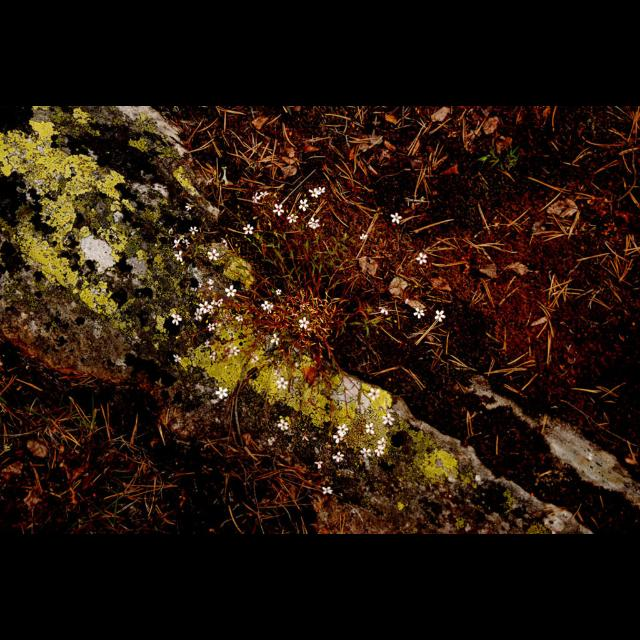Flower: (380, 412, 394, 426), (279, 418, 291, 432), (417, 252, 431, 264), (224, 345, 240, 355), (208, 249, 220, 261), (224, 284, 236, 296), (278, 377, 290, 389), (308, 219, 320, 231), (308, 188, 322, 198), (286, 213, 298, 224), (298, 316, 308, 329), (216, 388, 228, 398), (261, 300, 271, 312), (271, 334, 281, 346), (274, 205, 286, 215), (297, 199, 307, 211), (365, 423, 375, 435), (375, 444, 385, 456), (390, 212, 400, 224), (414, 308, 424, 320), (435, 311, 445, 323), (322, 487, 333, 497), (361, 448, 371, 459), (242, 224, 254, 233), (171, 314, 181, 324), (174, 252, 184, 262), (334, 434, 344, 444), (334, 454, 344, 464), (338, 426, 348, 436), (200, 299, 208, 311), (180, 237, 190, 245), (189, 227, 199, 235), (195, 309, 203, 319), (173, 354, 180, 364), (314, 462, 322, 470), (378, 437, 386, 445), (378, 308, 388, 314), (208, 324, 215, 332), (172, 238, 178, 246), (274, 288, 282, 294), (235, 315, 242, 321), (252, 193, 258, 200), (258, 192, 268, 196), (318, 188, 324, 192)
